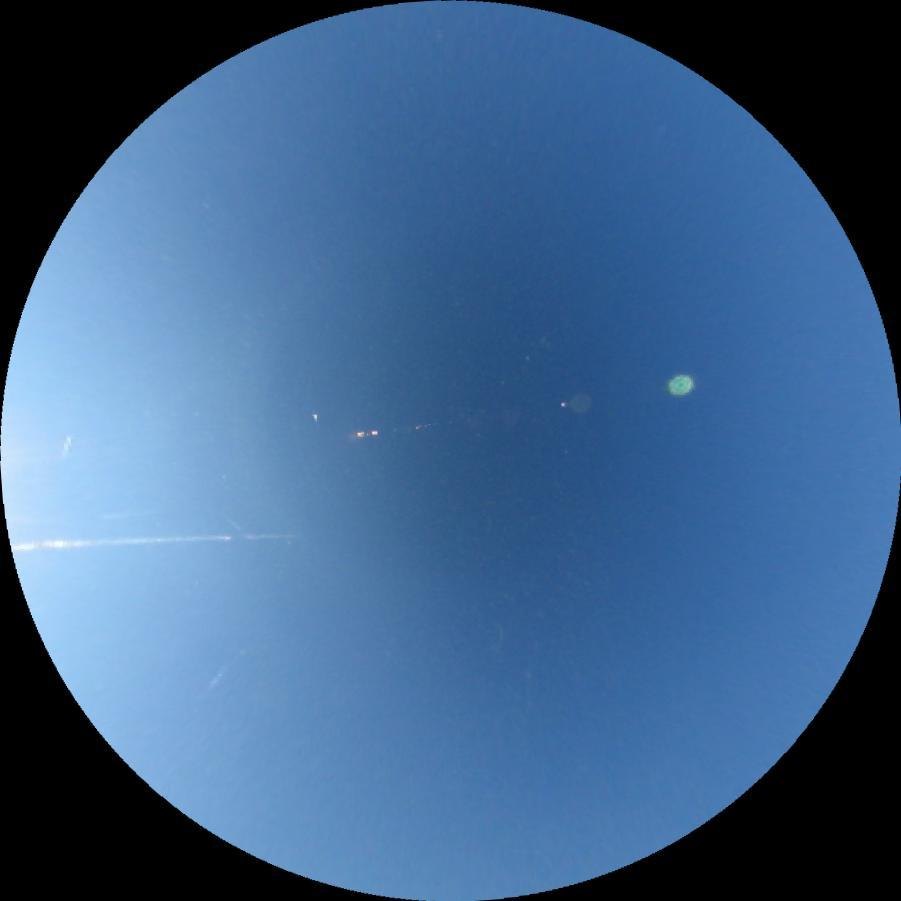contrail young: (56, 432, 78, 465), (221, 512, 243, 531)
parasite: (8, 529, 230, 551), (198, 644, 245, 696), (238, 531, 295, 540)
unknow: (100, 509, 159, 520)
